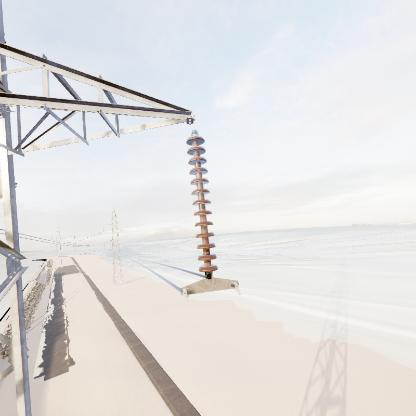insulator: (183, 132, 222, 279)
